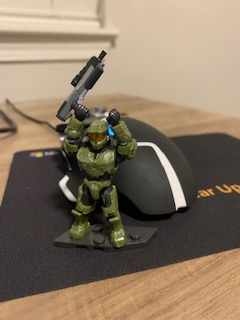chief: (61, 105, 135, 250)
rifle: (58, 48, 108, 123)
spartan: (59, 103, 133, 248)
up: (61, 104, 138, 179)
